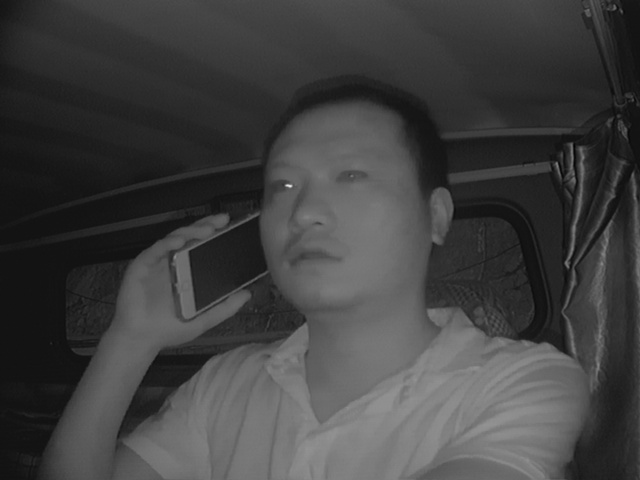hand: (120, 221, 246, 338)
